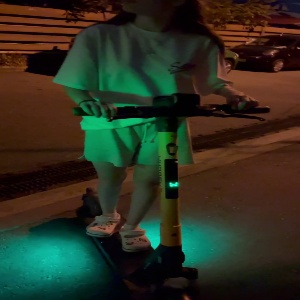human on a scooter: (51, 1, 271, 300)
